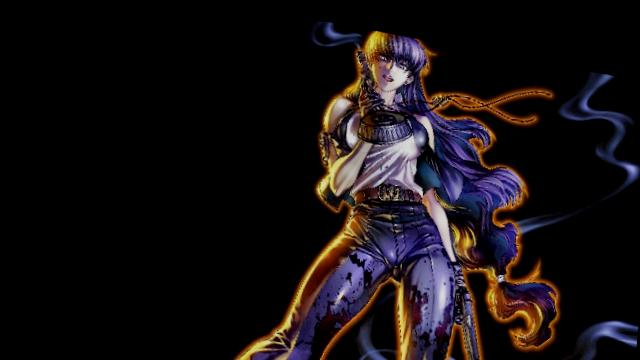pistol: (440, 281, 489, 360), (348, 43, 388, 107)
